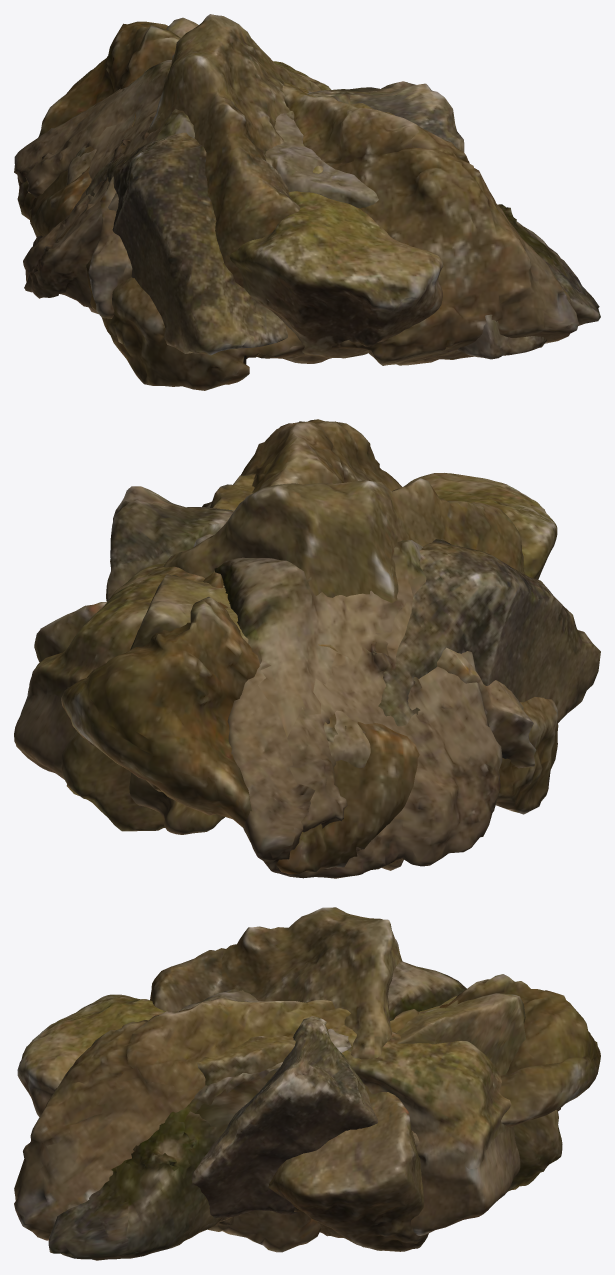
File: ScreeBoulders.glb
The picture shows the model from 3 angles, top to bottom: view 1: azimuth 30°, elevation 25°; view 2: azimuth 150°, elevation 25°; view 3: azimuth 270°, elevation 25°; orthographic projection. The views are drawn at different scales.
Visible parts, largest first — view 1: FallenStone01, FallenStone03, FallenStone02, FallenStone05, FallenStone04, FallenStone06; view 2: FallenStone02, FallenStone01, FallenStone03, FallenStone04, FallenStone05, FallenStone06; view 3: FallenStone01, FallenStone04, FallenStone05, FallenStone02, FallenStone03, FallenStone06.
Boxes of the visible parts, x1=… form: FallenStone01: x1=17, y1=21, x2=578, y2=390; FallenStone03: x1=86, y1=81, x2=464, y2=355; FallenStone02: x1=14, y1=60, x2=600, y2=359; FallenStone05: x1=66, y1=61, x2=443, y2=363; FallenStone04: x1=89, y1=14, x2=321, y2=314; FallenStone06: x1=88, y1=17, x2=394, y2=318; FallenStone02: x1=193, y1=501, x2=502, y2=878; FallenStone01: x1=61, y1=419, x2=558, y2=874; FallenStone03: x1=106, y1=486, x2=600, y2=726; FallenStone04: x1=34, y1=478, x2=524, y2=870; FallenStone05: x1=14, y1=473, x2=557, y2=834; FallenStone06: x1=61, y1=473, x2=536, y2=831; FallenStone01: x1=14, y1=974, x2=600, y2=1252; FallenStone04: x1=150, y1=907, x2=428, y2=1251; FallenStone05: x1=17, y1=994, x2=520, y2=1235; FallenStone02: x1=48, y1=961, x2=466, y2=1260; FallenStone03: x1=191, y1=1016, x2=419, y2=1217; FallenStone06: x1=196, y1=993, x2=562, y2=1191.
Size of the model in its own units: 2.66 by 1.77 by 3.37.
1 material, 1 textured.
